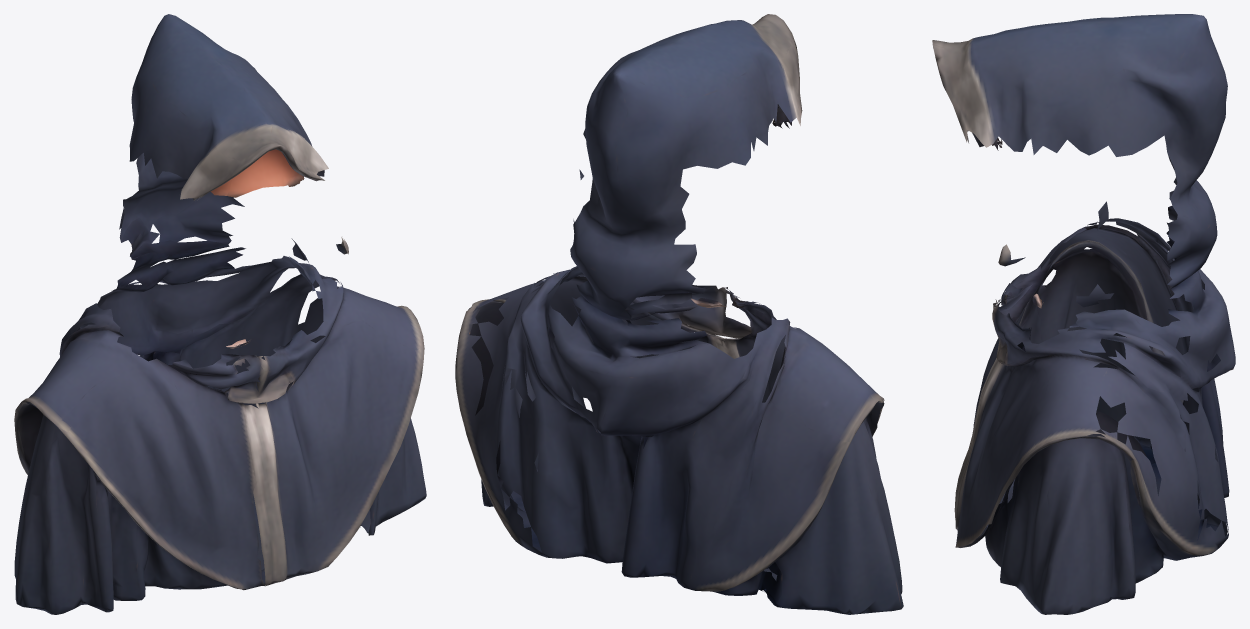
File: armor_mage_robe_cowl.glb
3 renders of one model, left to right at view 1: azimuth 30°, elevation 25°; view 2: azimuth 150°, elevation 25°; view 3: azimuth 270°, elevation 25°, orthographic. The views are drawn at different scales.
Parts seen in each view (by area): view 1: world; view 2: world; view 3: world.
Boxes of the visible parts, x1=… form: world: x1=14, y1=14, x2=426, y2=614; world: x1=455, y1=14, x2=903, y2=614; world: x1=932, y1=14, x2=1235, y2=614.
Size of the model in its own units: 0.8352 by 1 by 0.5179.
Materials: 1 (1 with a texture image).
